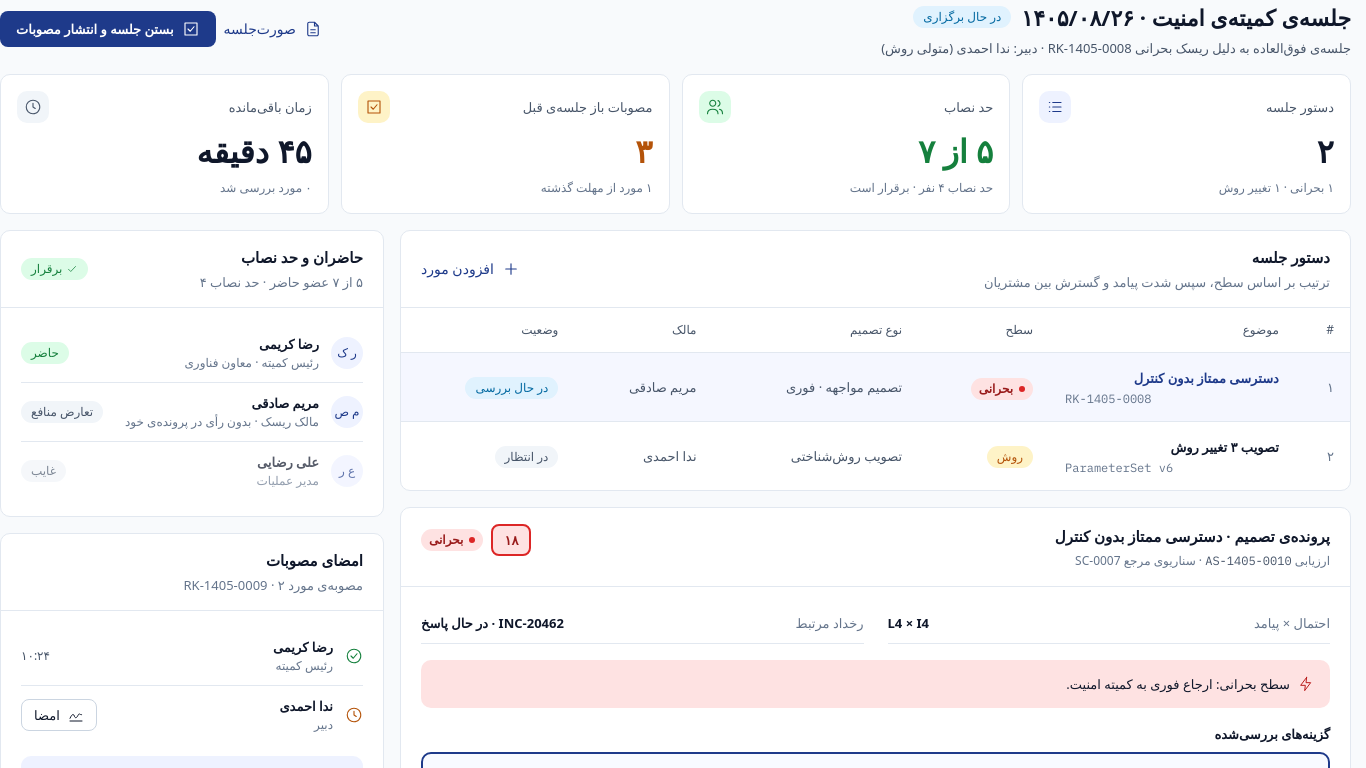
Test: CommitteePage › closes the meeting after confirmation
Click the button "بستن جلسه و انتشار مصوبات" at (108, 29), box [0,11,216,47]
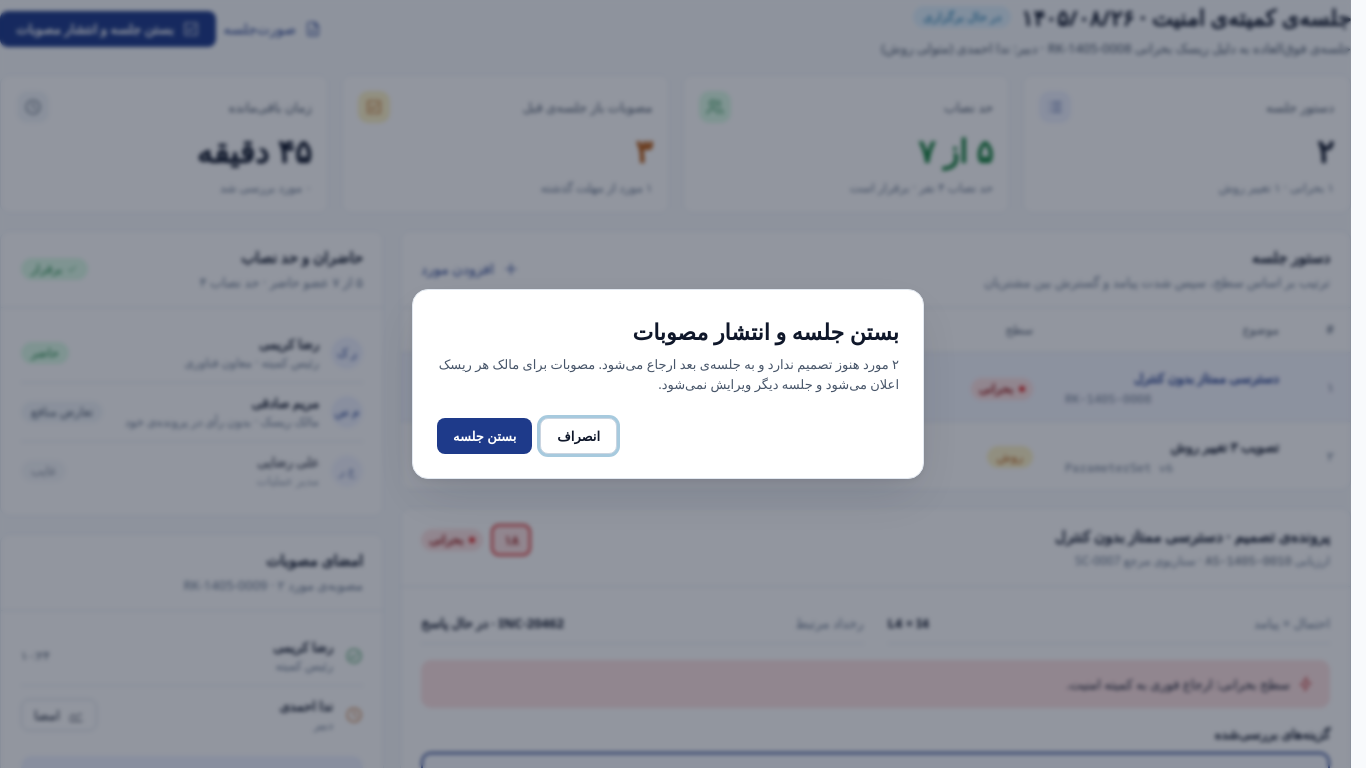
Result: the dialog shows "۲ مورد هنوز تصمیم ندارد" at [439,355,899,393]
Click the button "بستن جلسه" at (485, 436), box [437,418,532,454]
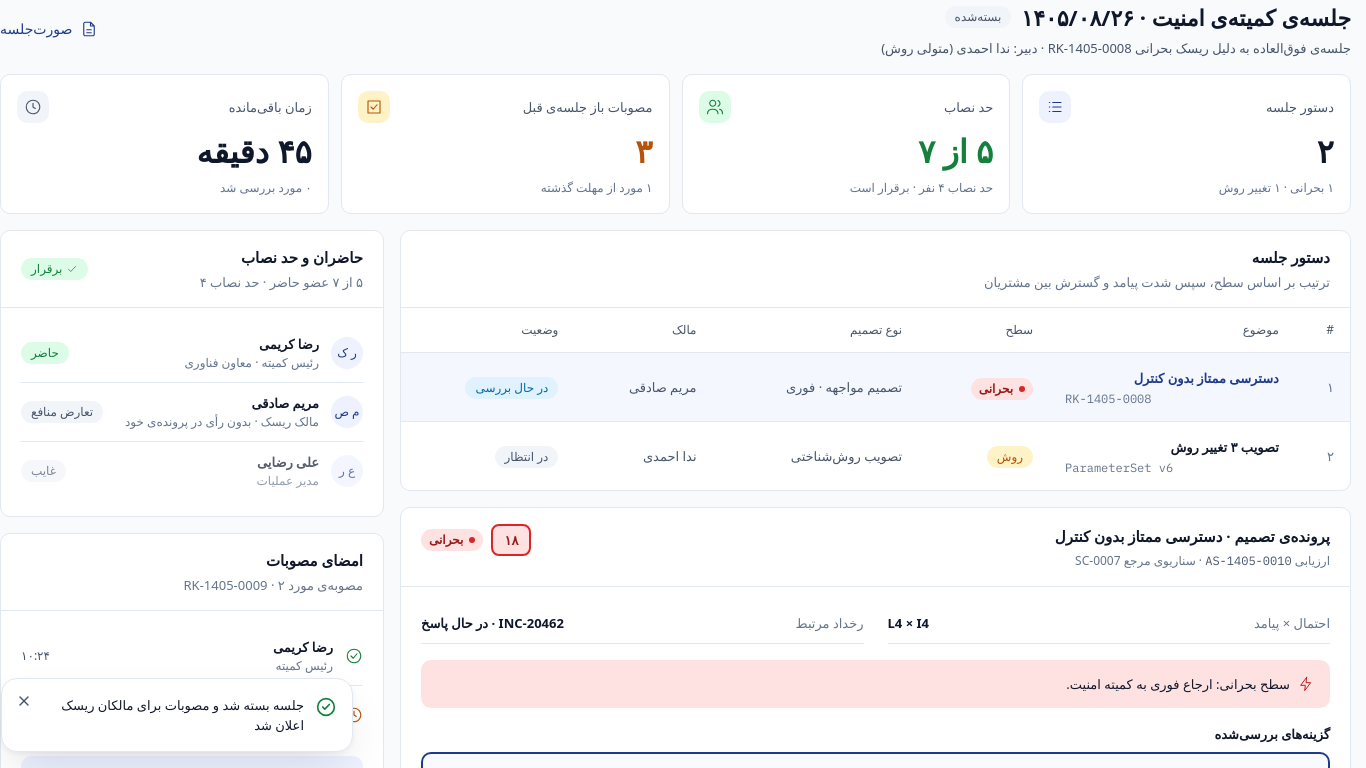
Result: the text "بسته‌شده" is shown at [945,6,1011,28]
